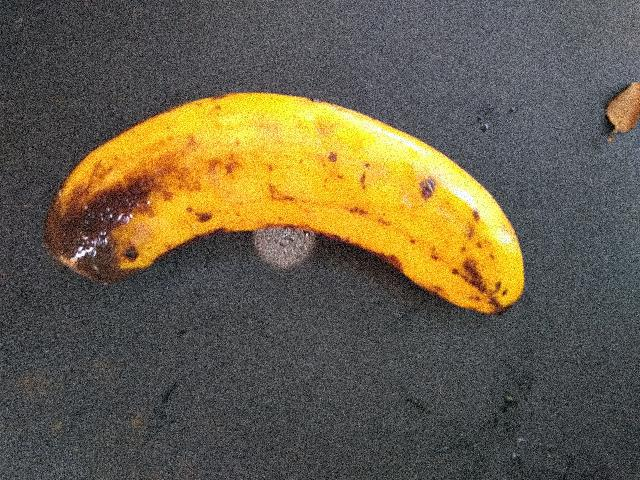overripe: (195, 88, 545, 345)
rotten: (18, 84, 265, 293)
